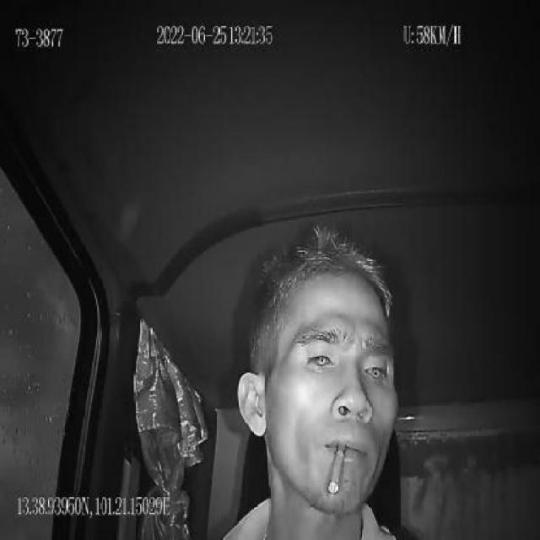smoking: (327, 441, 346, 494)
